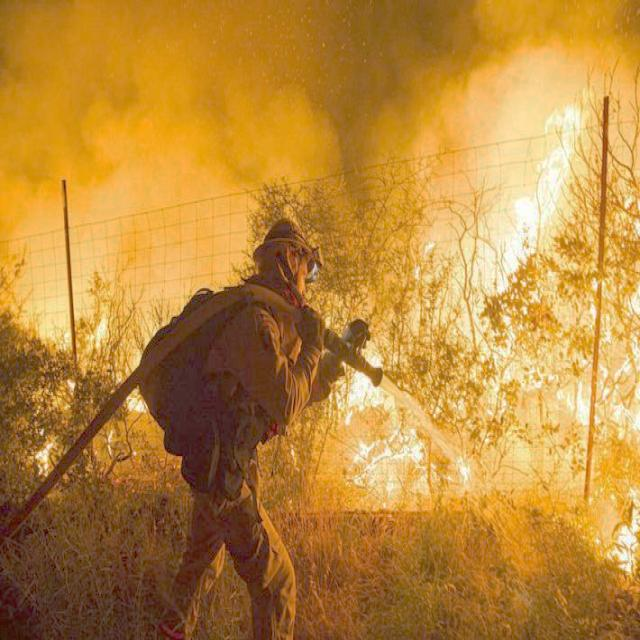api: (470, 73, 597, 332), (337, 325, 434, 495), (605, 489, 640, 583), (84, 306, 119, 354), (30, 433, 55, 483), (125, 393, 151, 422)
asap: (1, 1, 373, 350), (364, 1, 640, 317)
